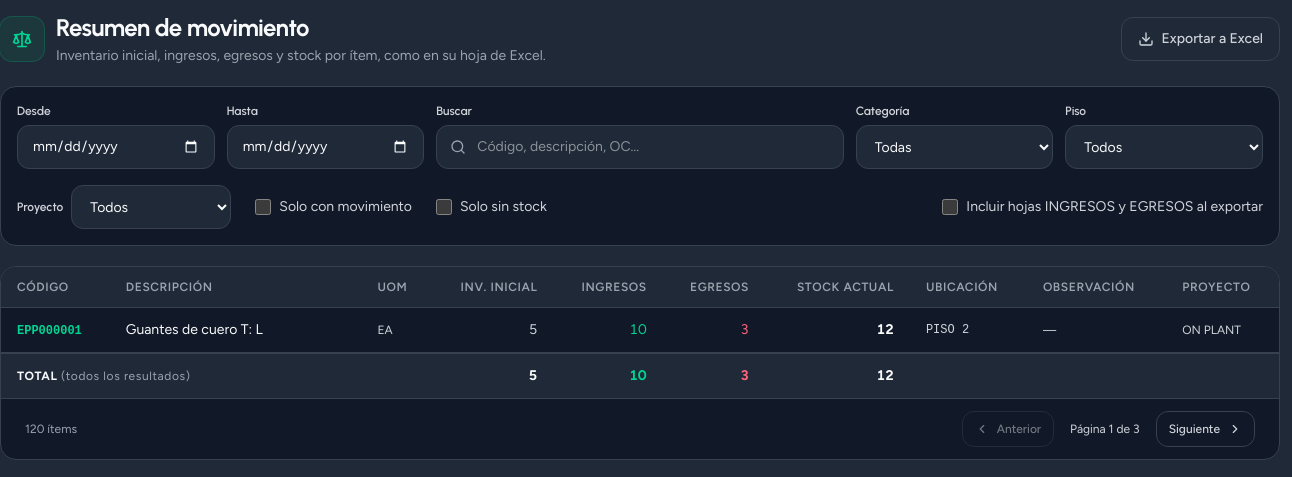
Scenario: ResumenPage — paginación › con 120 ítems hay 3 páginas de 50 y se puede avanzar y retroceder
This screenshot has width=1292, height=477.
Check: the table is shown, box [1,267,1279,398]
Check: the text "Página 1 de 3" is shown, box [1070,422,1140,436]
Click the button "Siguiente".
click(1205, 429)  # box [1156,411,1255,447]
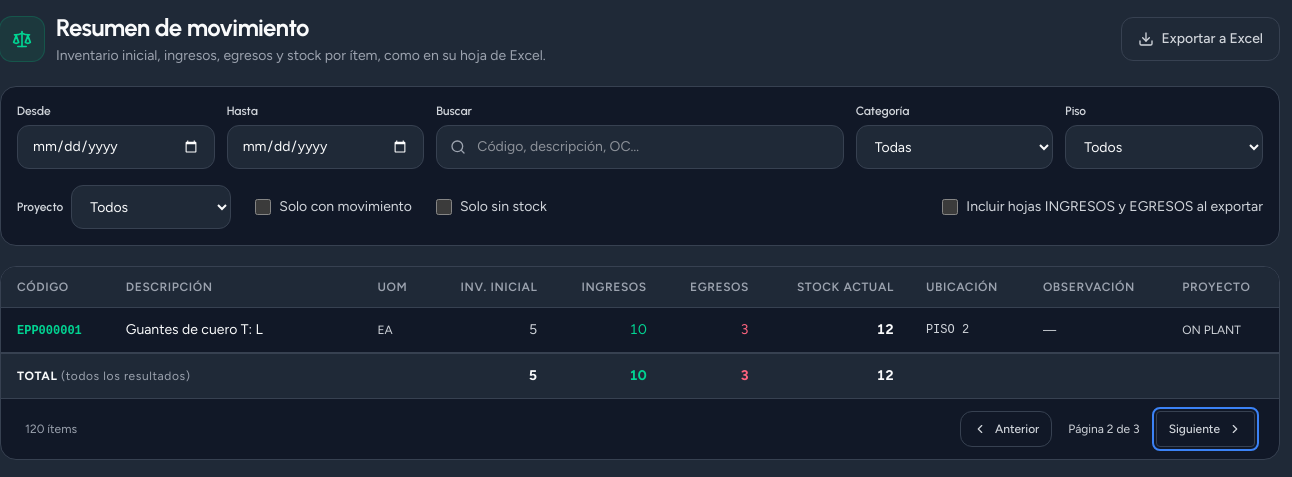
Check: the text "Página 2 de 3" is shown, box [1068,422,1140,436]
Click the button "Anterior".
click(1006, 429)  # box [960,411,1052,447]
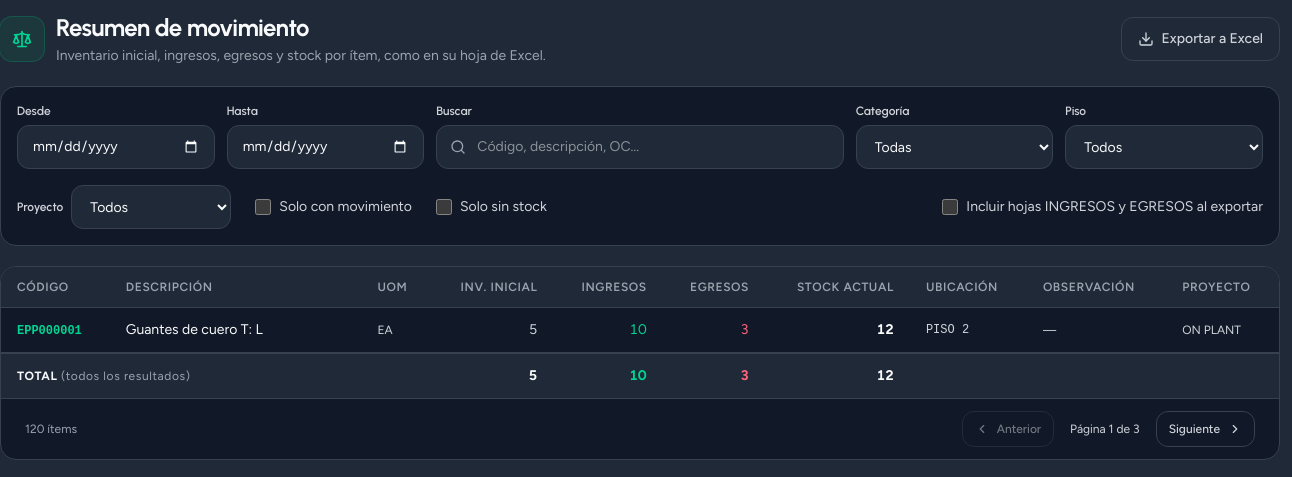
Check: the text "Página 1 de 3" is shown, box [1070,422,1140,436]
